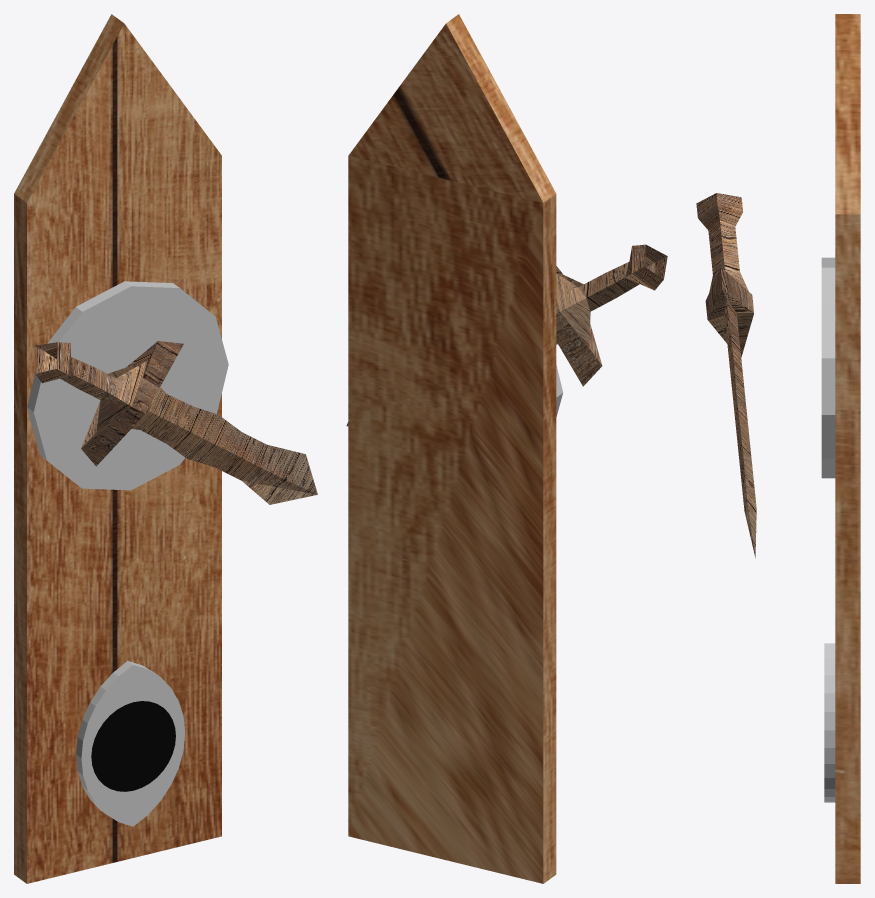
Rendered from DevelopmentTab.fbx.
The picture shows the model from 3 angles, left to right: view 1: azimuth 30°, elevation 25°; view 2: azimuth 150°, elevation 25°; view 3: azimuth 270°, elevation 25°; orthographic projection.
Visible parts, largest first — view 1: DevelopmentTab; view 2: DevelopmentTab; view 3: DevelopmentTab.
Boxes of the visible parts, box(x1,y1,x2,y2) form: DevelopmentTab: box(14, 14, 317, 883); DevelopmentTab: box(346, 14, 667, 883); DevelopmentTab: box(696, 14, 860, 883).
Size of the model in its own units: 17.82 by 47.46 by 8.58.
